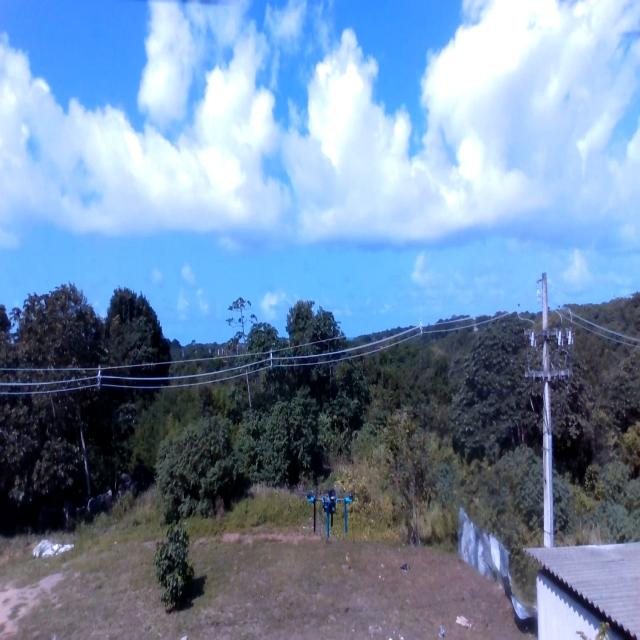-uav-: (302, 482, 356, 544)
